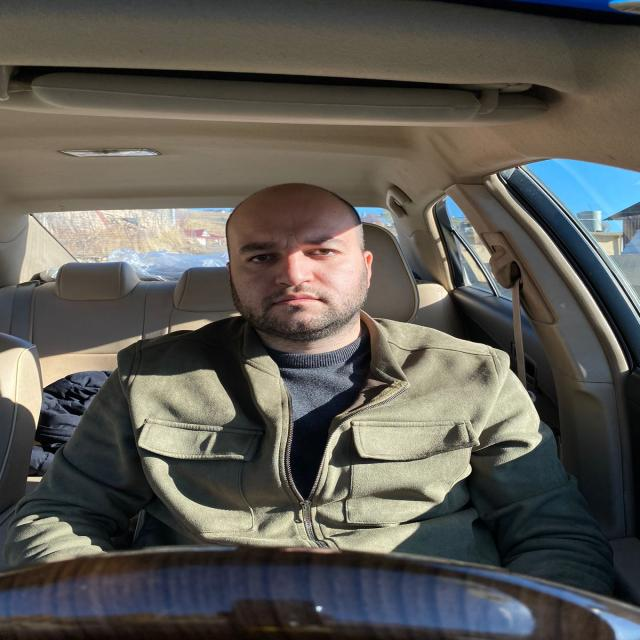person: (220, 180, 377, 348)
